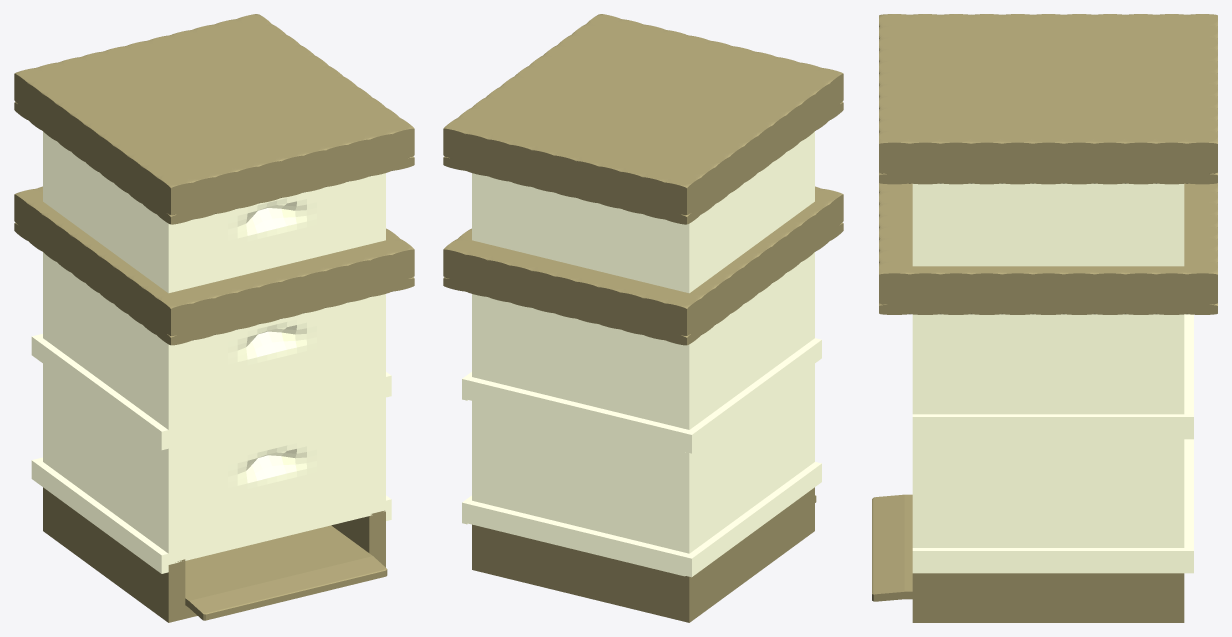
The model's file is BeeBoxes_BothTypes.glb.
The picture shows the model from 3 angles, left to right: view 1: azimuth 30°, elevation 25°; view 2: azimuth 150°, elevation 25°; view 3: azimuth 270°, elevation 25°; orthographic projection. The views are drawn at different scales.
Visible parts, largest first — view 1: 3-Box-Type-Lid, Box 1, Box 2, Box 3, 2-Box-Type-Lid, BeeOut; view 2: 3-Box-Type-Lid, Box 1, Box 2, Box 3, 2-Box-Type-Lid, BeeOut; view 3: 3-Box-Type-Lid, Box 1, Box 2, Box 3, 2-Box-Type-Lid, BeeOut.
Boxes of the visible parts, x1,y1,x2,y2 form: 3-Box-Type-Lid: [14, 14, 414, 224]; Box 1: [31, 364, 391, 573]; Box 2: [31, 252, 391, 450]; Box 3: [43, 131, 385, 293]; 2-Box-Type-Lid: [14, 186, 414, 345]; BeeOut: [43, 487, 387, 622]; 3-Box-Type-Lid: [443, 14, 843, 224]; Box 1: [462, 364, 821, 577]; Box 2: [462, 252, 821, 453]; Box 3: [472, 131, 814, 293]; 2-Box-Type-Lid: [443, 186, 843, 345]; BeeOut: [472, 487, 816, 622]; 3-Box-Type-Lid: [879, 14, 1217, 184]; Box 1: [912, 439, 1193, 573]; Box 2: [912, 314, 1193, 439]; Box 3: [912, 183, 1184, 266]; 2-Box-Type-Lid: [879, 183, 1217, 314]; BeeOut: [872, 494, 1184, 622].
Bounding box in the file's own units: 2.24 × 3.96 × 2.55.
